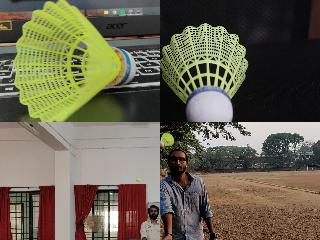shuttlecock: (12, 0, 137, 121), (160, 23, 249, 121), (160, 133, 174, 148), (134, 177, 140, 183)
